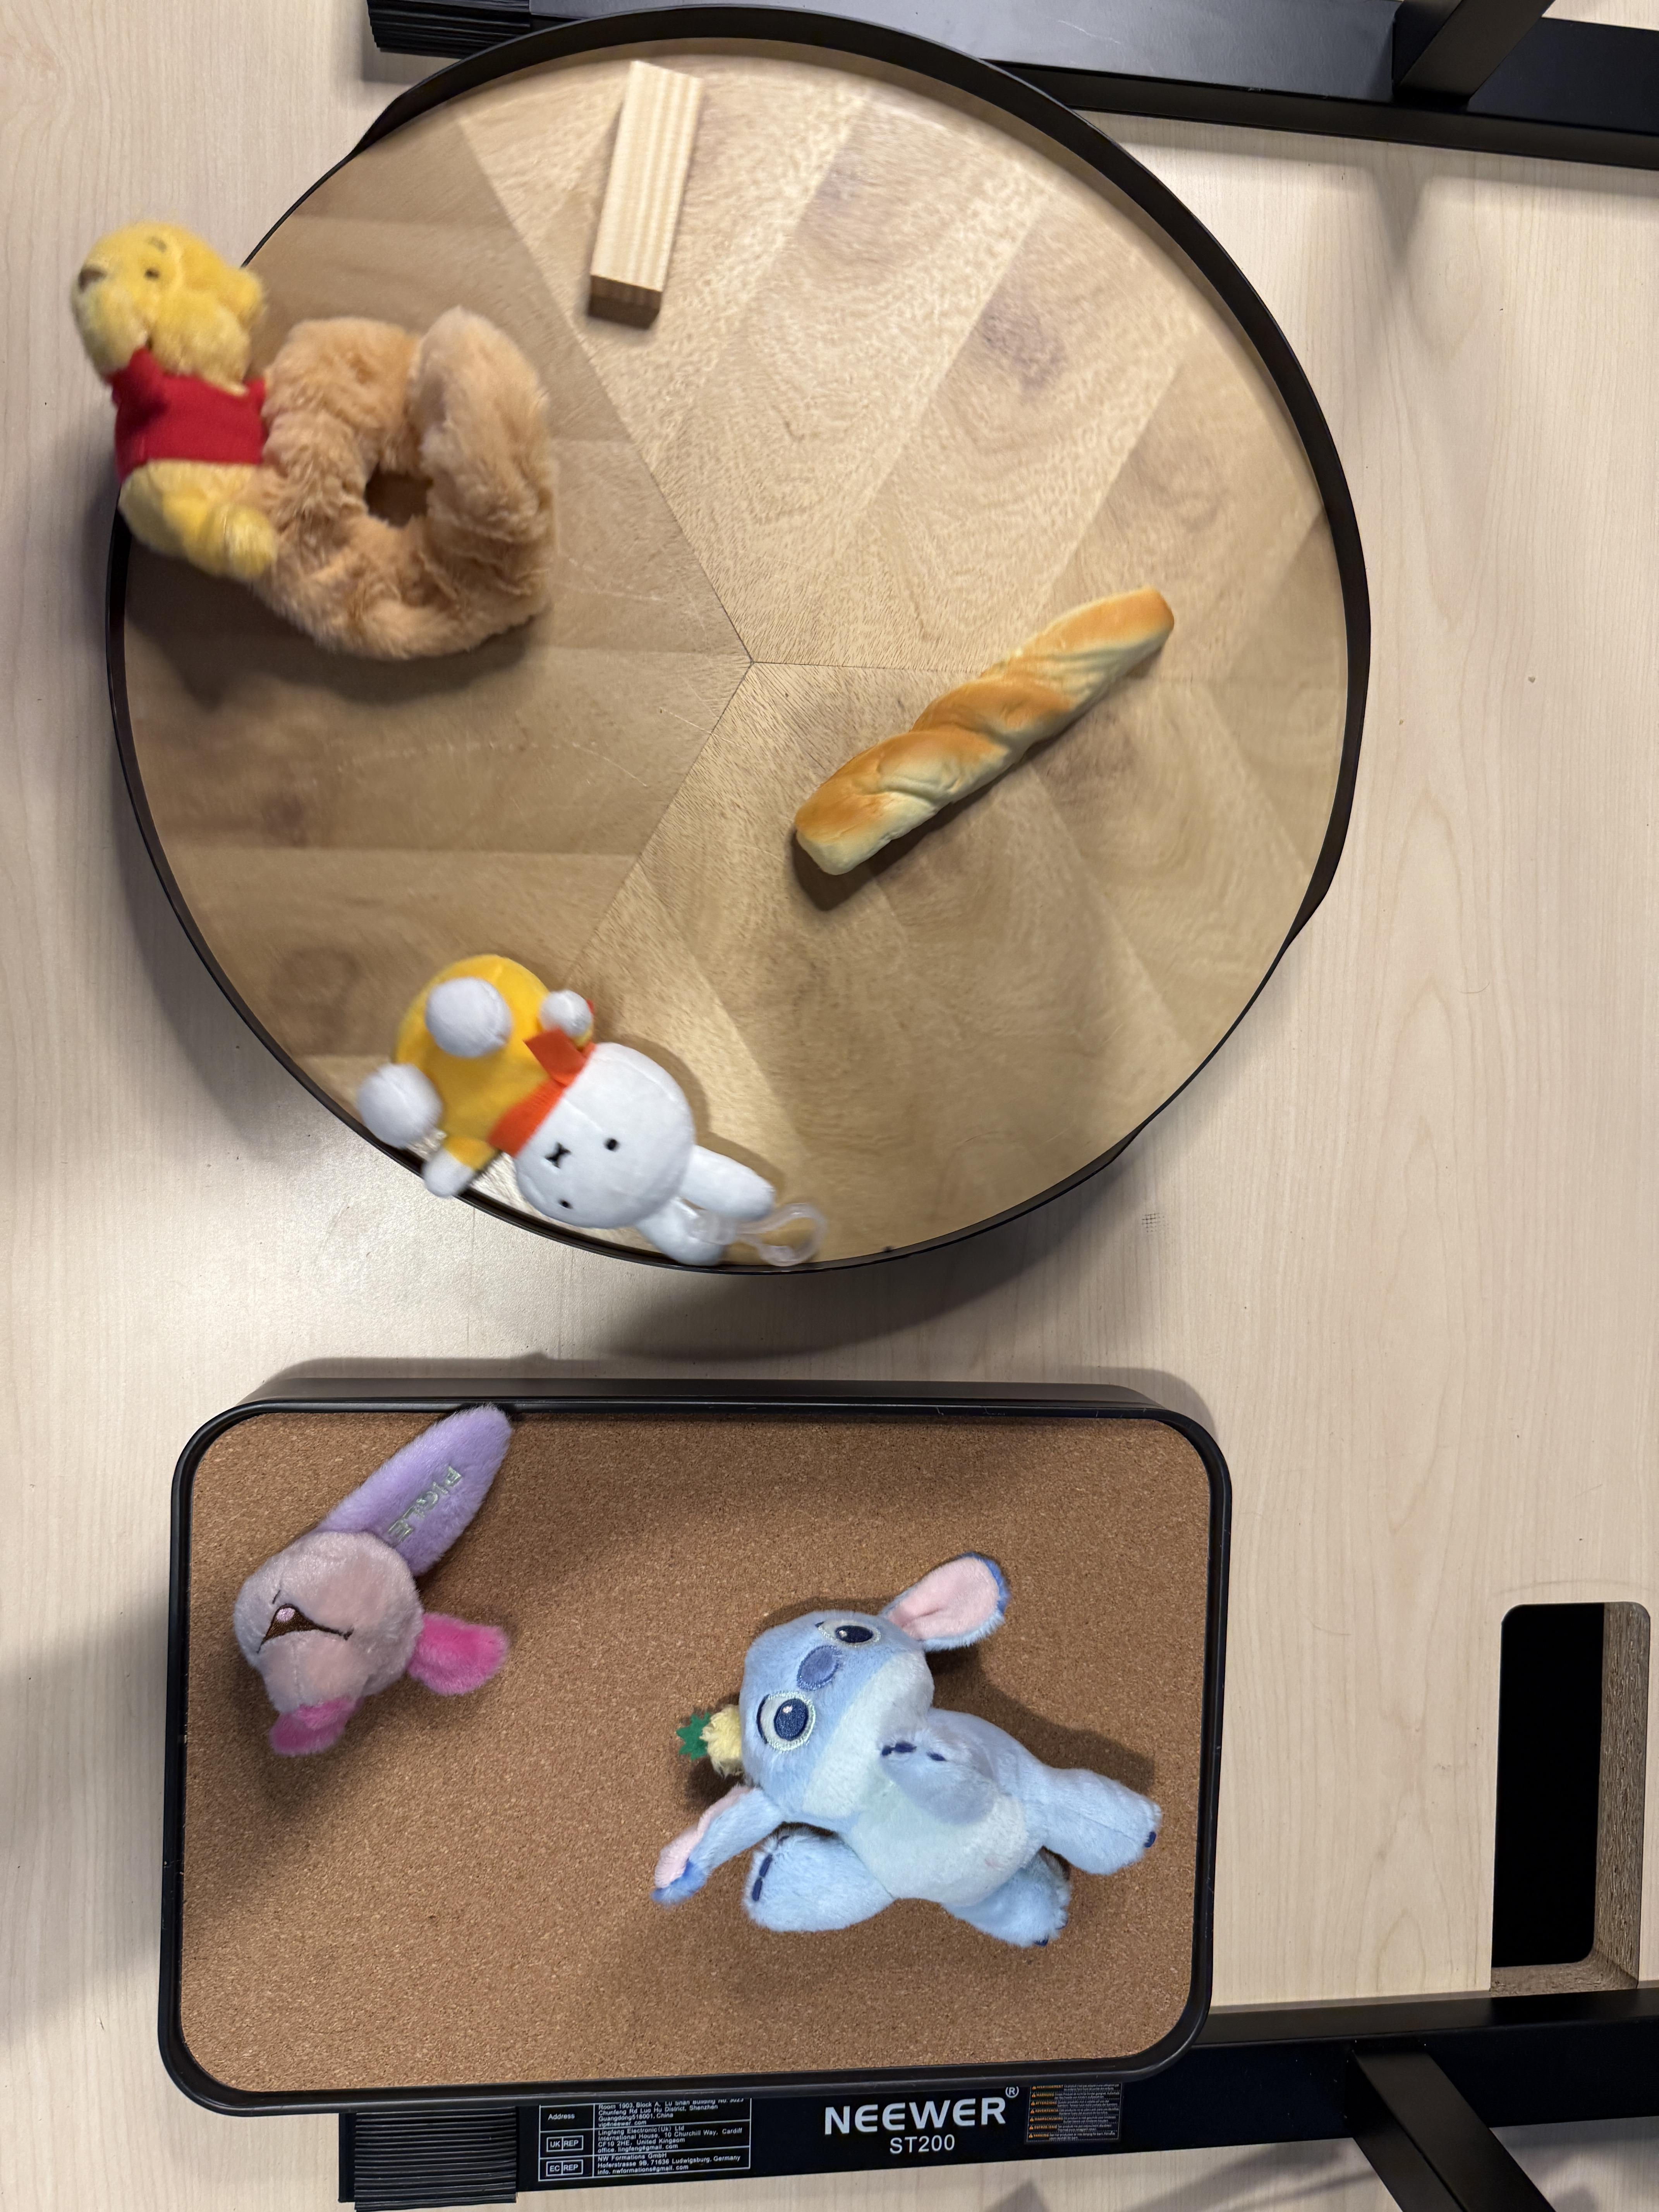block: (596, 54, 709, 317)
bread: (798, 589, 1175, 899)
doll: (70, 225, 549, 665), (659, 1554, 1159, 1954), (355, 960, 789, 1264), (228, 1402, 528, 1763)
